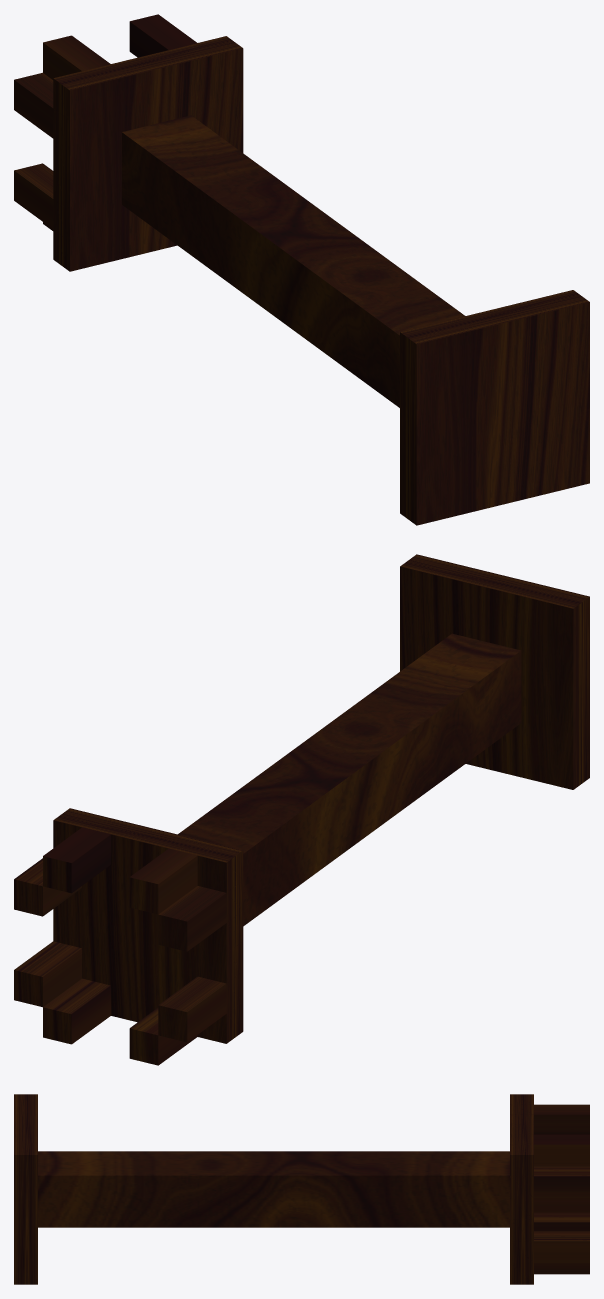
The picture shows the model from 3 angles, top to bottom: view 1: azimuth 30°, elevation 25°; view 2: azimuth 150°, elevation 25°; view 3: azimuth 270°, elevation 25°; orthographic projection. The views are drawn at different scales.
Parts seen in each view (by area): view 1: Cubo.006; view 2: Cubo.006; view 3: Cubo.006.
Boxes of the visible parts, <box> form: Cubo.006: <box>14,14,589,525</box>; Cubo.006: <box>14,554,589,1065</box>; Cubo.006: <box>14,1094,589,1284</box>.
Bounding box in the file's own units: 30 × 30 × 121.
